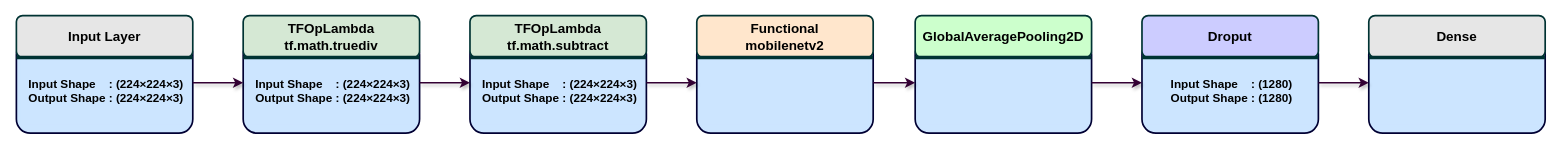
Some shapes in this 1562 by 148 pixel diagram are drawn without their labels. The centre of each missing label's shape, as x and y in pixels:
"Input Shape : (1280) Output Shape : (3)" goes at point (1457, 90).
"Input Shape : (224×224×3) Output Shape : (7×7×1280)" goes at point (785, 90).
"Input Shape : (7×7×1280) Output Shape : (1280)" goes at point (1003, 90).
